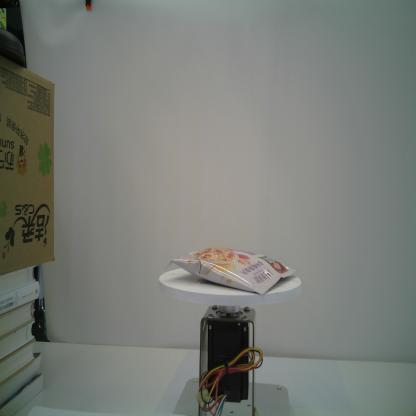Instant Drink: (165, 245, 298, 295)
